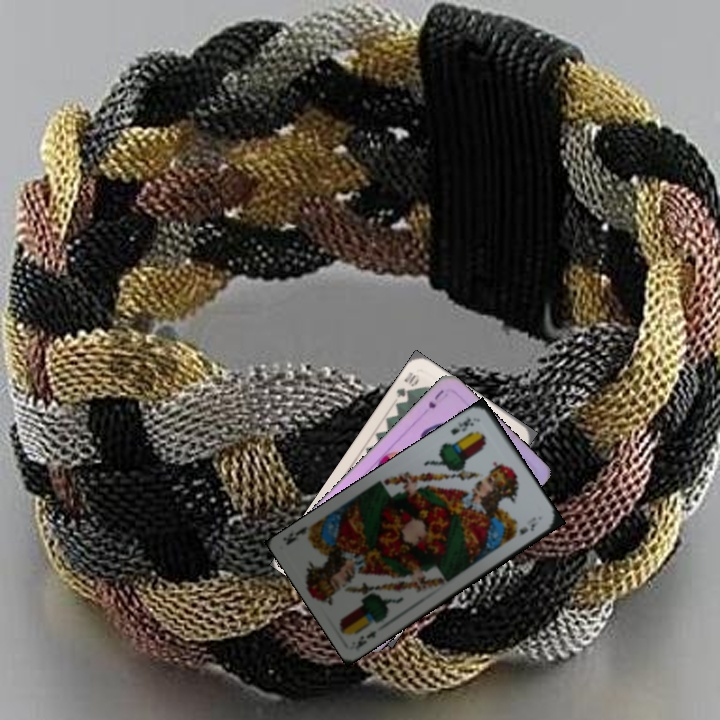EK: (446, 413, 476, 438), (352, 626, 379, 652)
G10: (392, 368, 422, 401)
SU: (424, 386, 450, 411)
